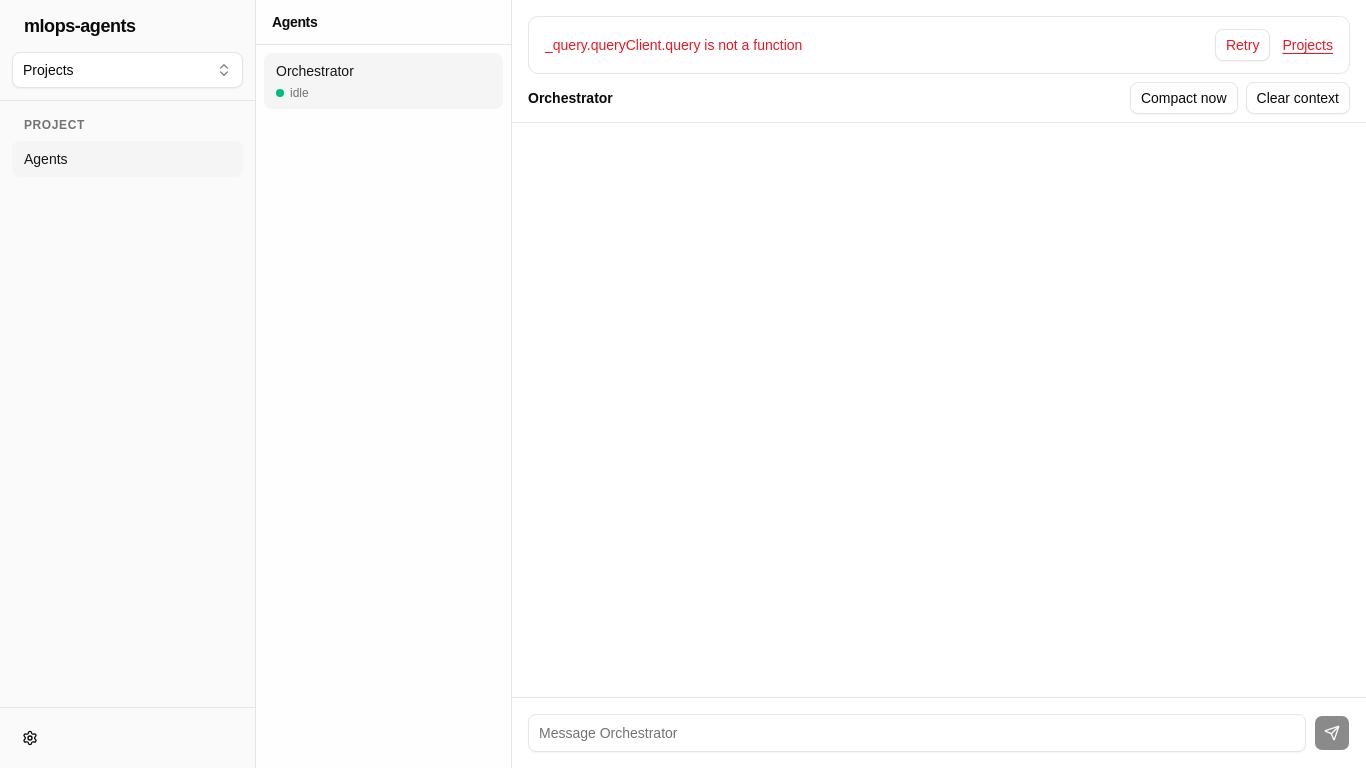
Scenario: AgentsPage › Compact now sends POST to compact endpoint and shows notice if not compacted
Click the button "Compact now": click(1184, 98) [1130,82,1238,114]
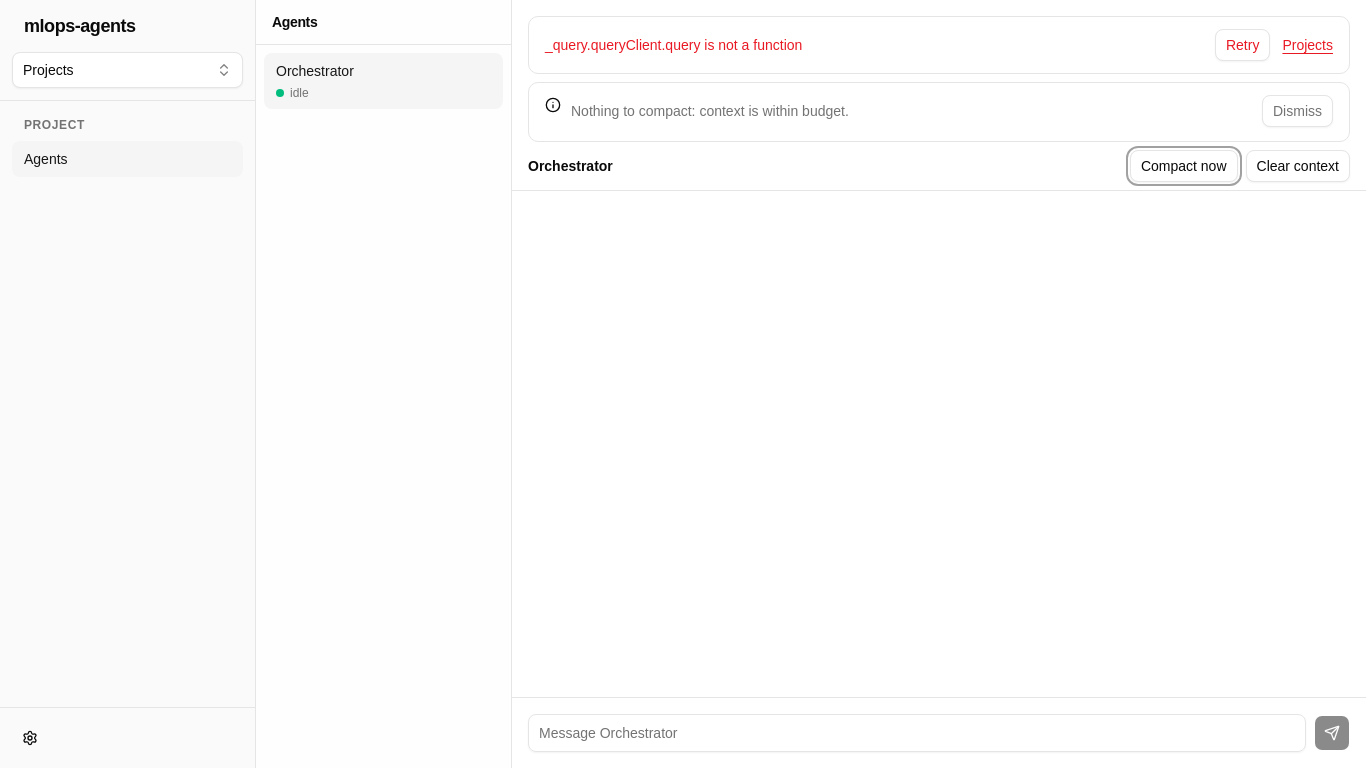
Now the text "Nothing to compact: context is within budget." is shown, box [571,101,849,121]
